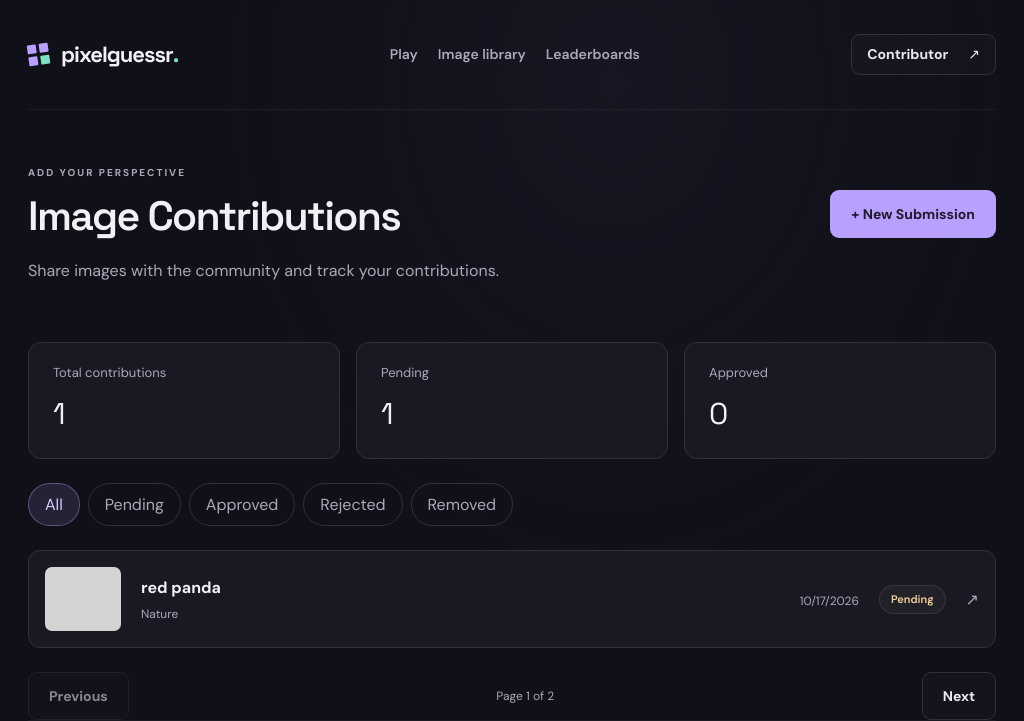
Scenario: requires source URL for licensed images while explaining owned and AI rights
Click the button "+ New Submission" at (913, 214), box left=830, top=190, right=996, bottom=238
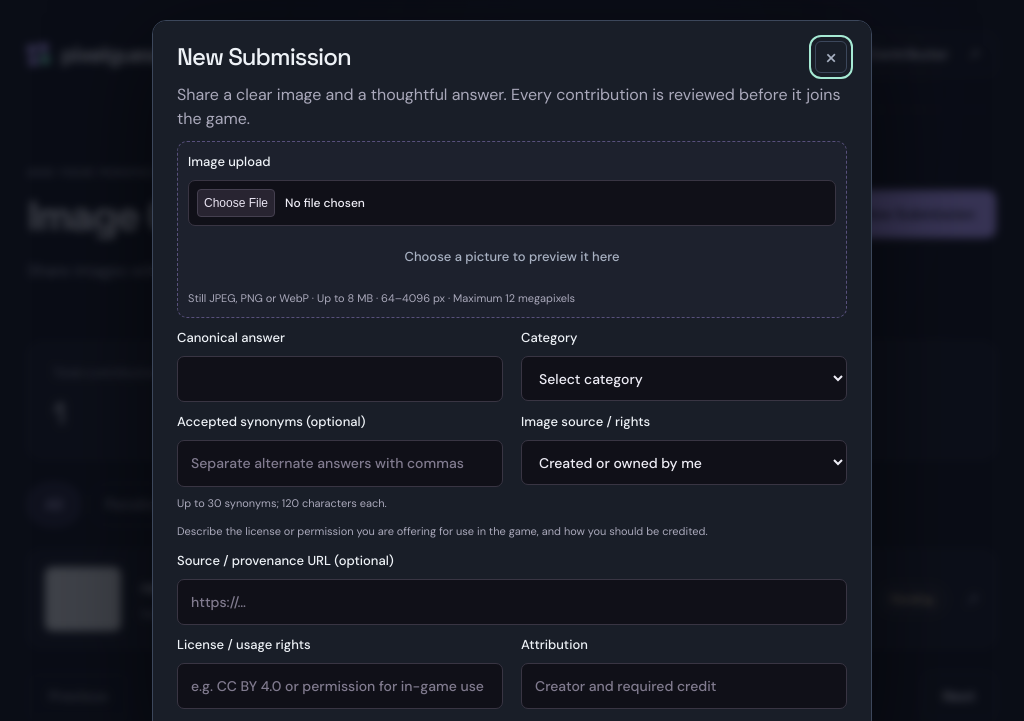
Select "Licensed third-party image" in the dropdown labelled "Image source / rights" at (684, 463), box left=521, top=440, right=847, bottom=485
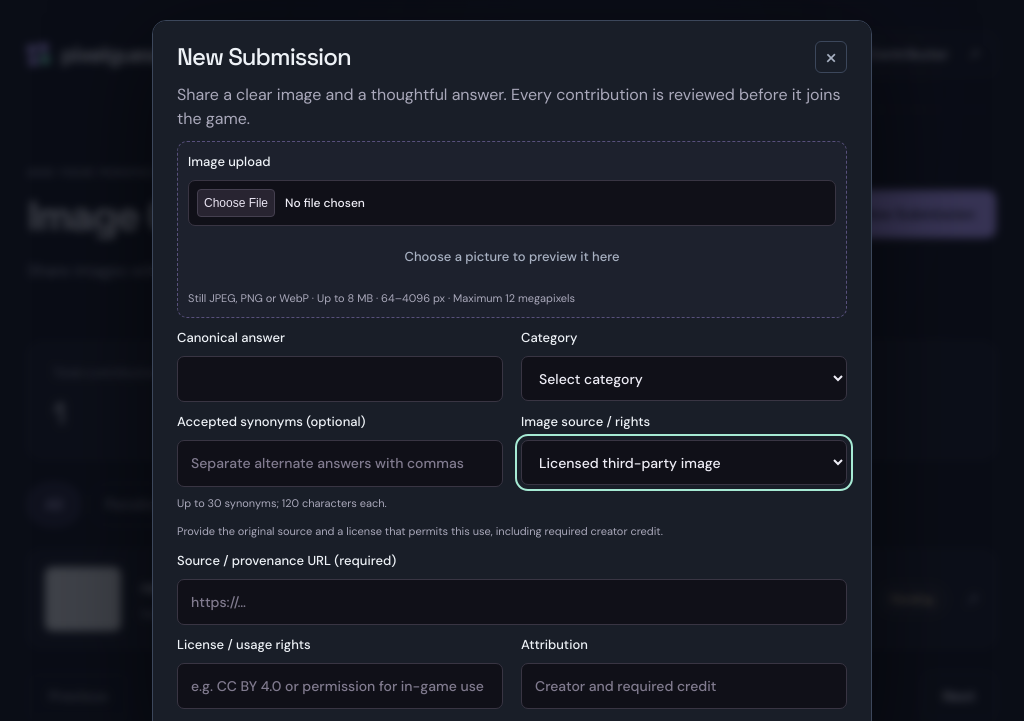
Select "AI-generated image" in the dropdown labelled "Image source / rights" at (684, 463), box left=521, top=440, right=847, bottom=485
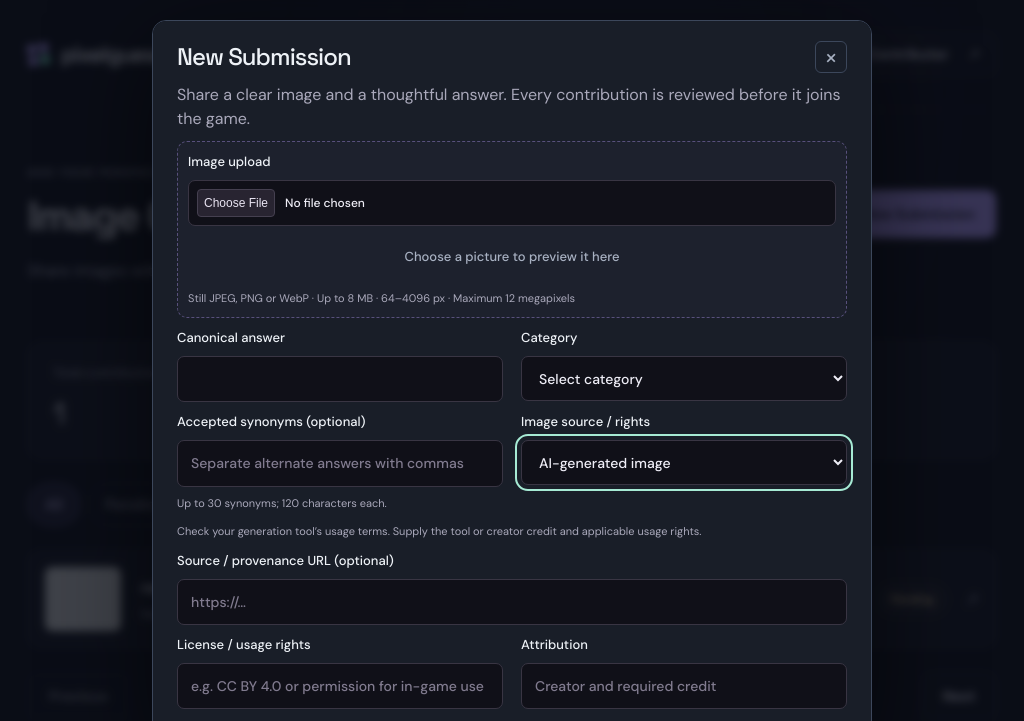
Expected: the text "generation tool’s usage terms" is shown, left=177, top=524, right=702, bottom=538
